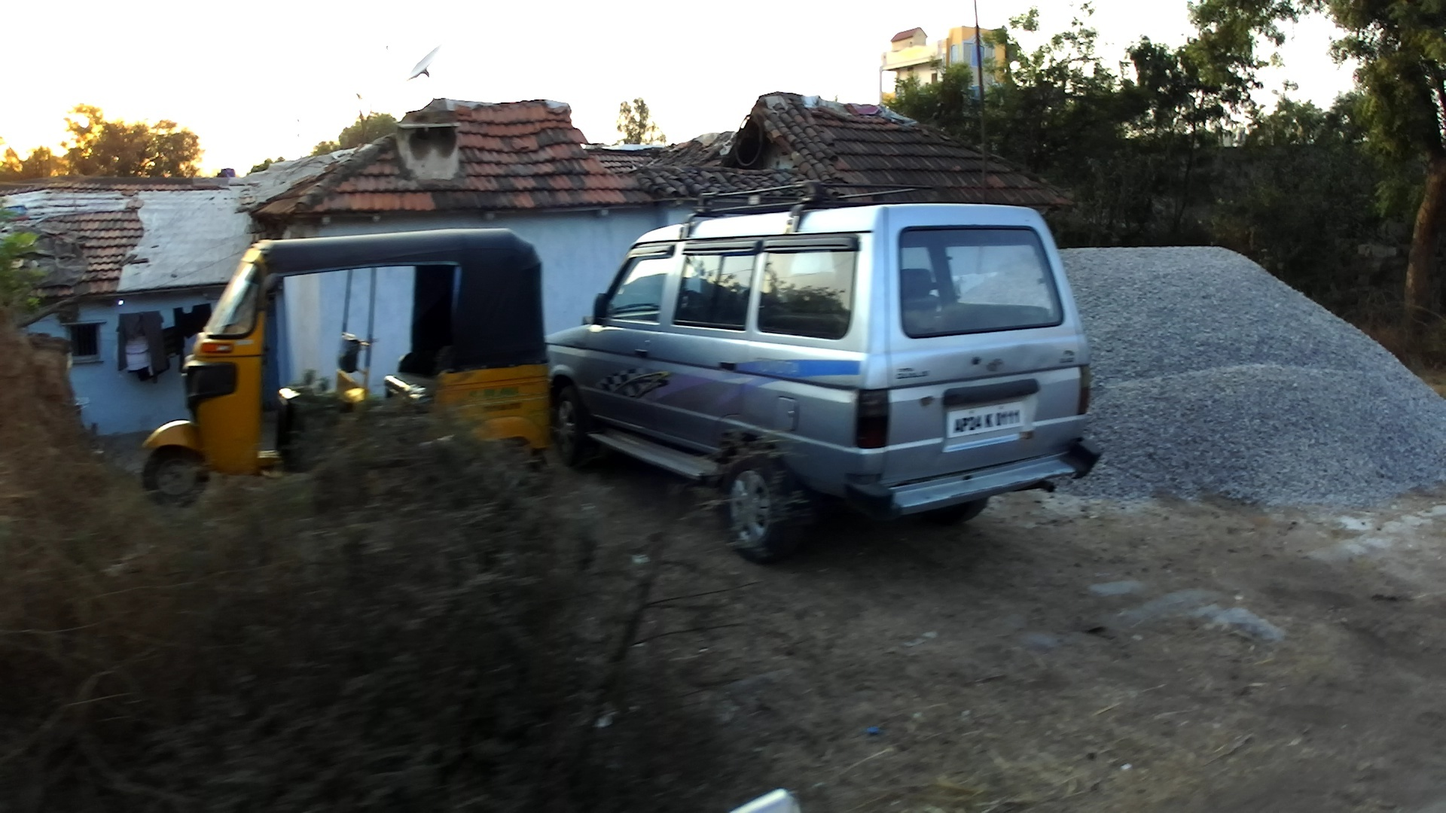autorickshaw: (139, 225, 553, 512)
car: (544, 179, 1105, 566)
